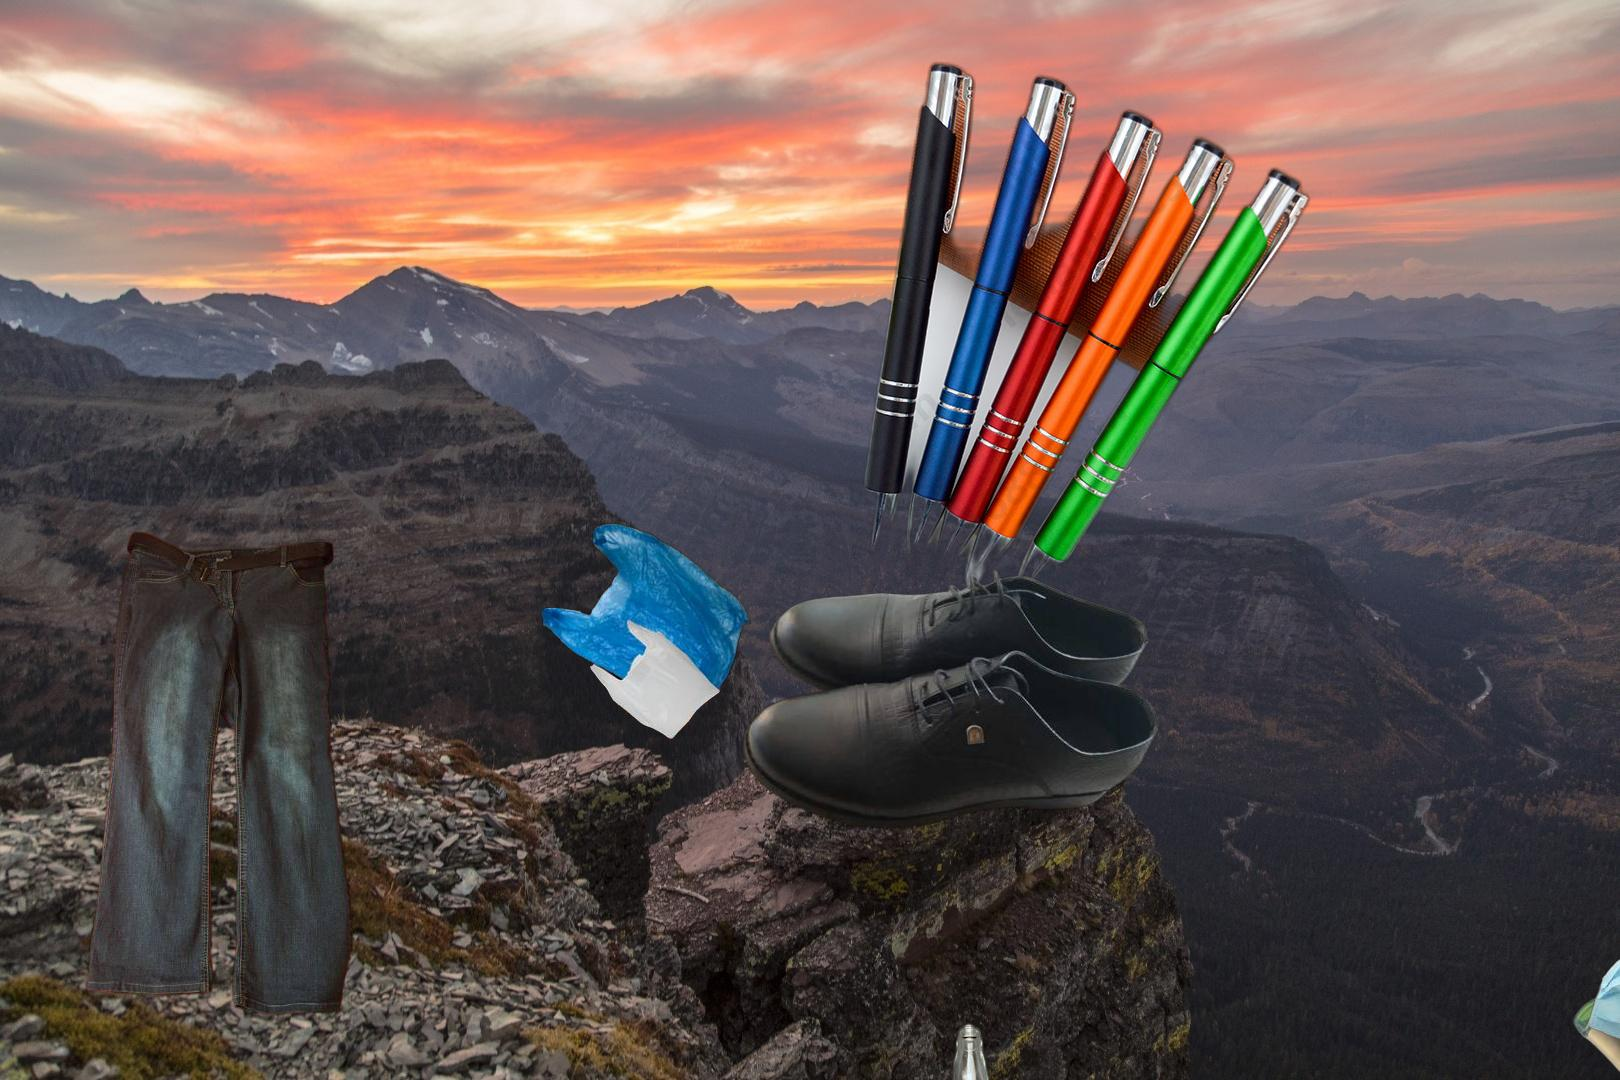clothes: (82, 527, 357, 1020)
glass: (931, 1016, 1012, 1080), (1568, 996, 1620, 1080)
penholder: (857, 55, 1383, 759)
plastic-bag: (538, 520, 753, 740)
shoes: (736, 564, 1166, 832)
trash: (1583, 943, 1620, 1049)
